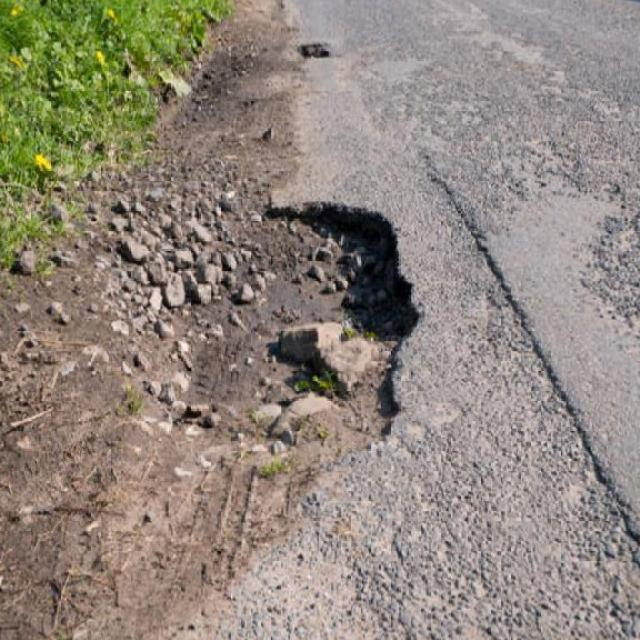Pinggir: (216, 188, 438, 512)
